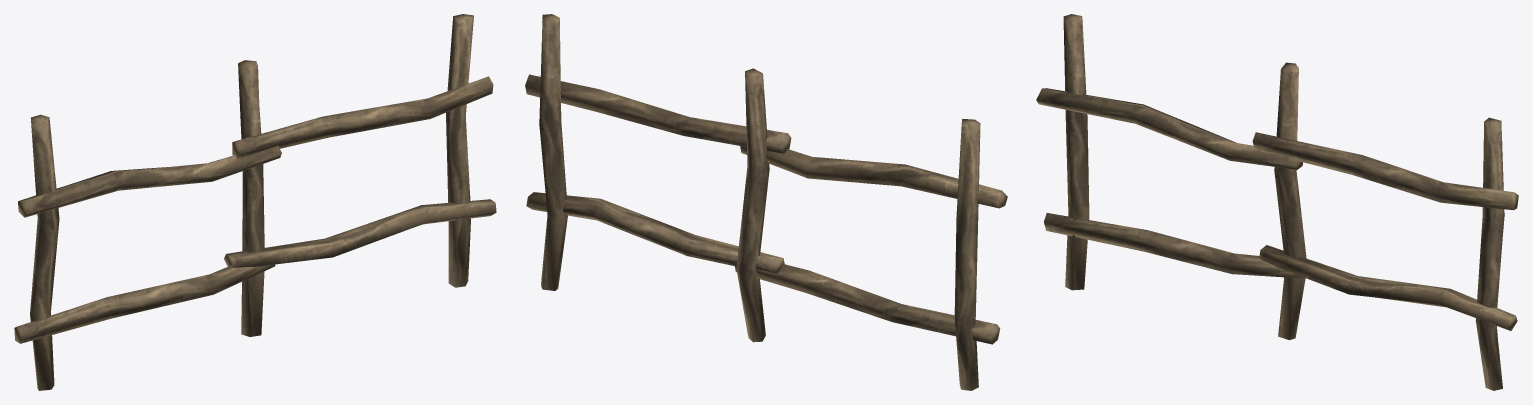
File: beach fence.FBX
3 views of the same model, side by side, from view 1: azimuth 30°, elevation 25°; view 2: azimuth 150°, elevation 25°; view 3: azimuth 330°, elevation 25° (orthographic).
Visible parts, largest first — view 1: beach fence; view 2: beach fence; view 3: beach fence.
Part boxes in pixels (<box>): beach fence: <box>14,14,496,390</box>; beach fence: <box>525,14,1007,390</box>; beach fence: <box>1036,14,1518,390</box>.
Bounding box in the file's own units: 2.83 × 1.54 × 0.2358.
